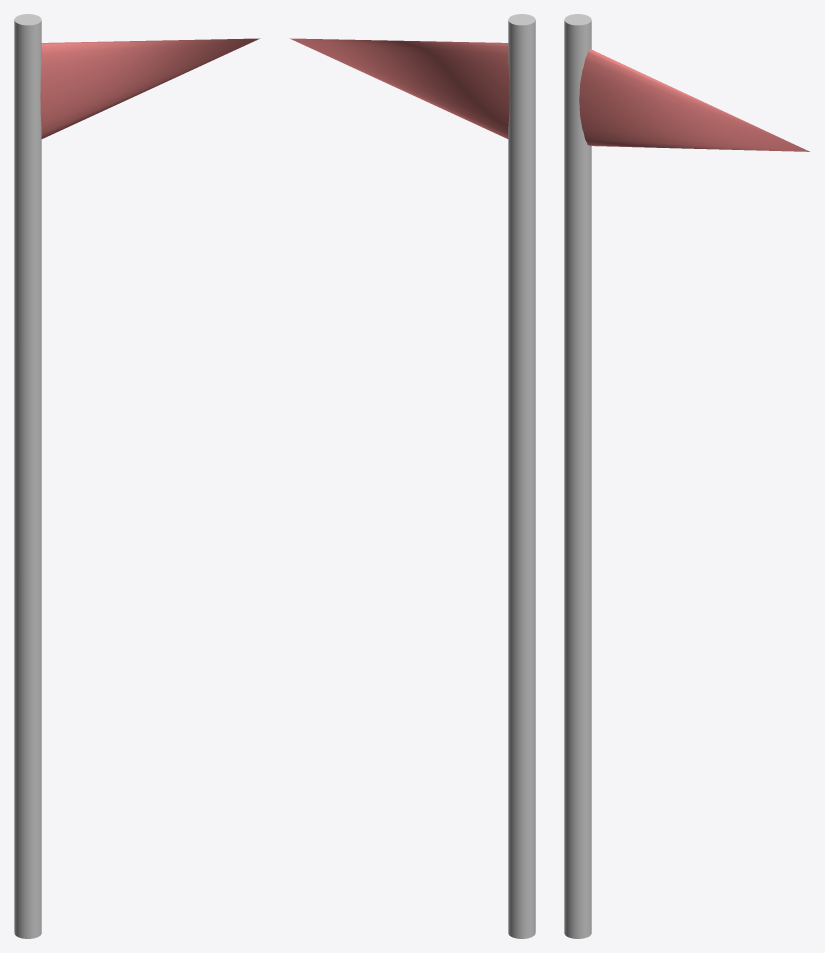
File: GoalPost.fbx
3 views of the same model, side by side, from view 1: azimuth 30°, elevation 25°; view 2: azimuth 150°, elevation 25°; view 3: azimuth 330°, elevation 25° (orthographic).
Parts seen in each view (by area): view 1: pCylinder1, pCone1; view 2: pCylinder1, pCone1; view 3: pCylinder1, pCone1.
Part boxes in pixels (x1,y1,x2,y2): pCylinder1: [14, 14, 41, 938]; pCone1: [40, 38, 260, 138]; pCylinder1: [508, 14, 535, 938]; pCone1: [289, 38, 509, 138]; pCylinder1: [564, 14, 591, 938]; pCone1: [579, 49, 809, 151].
Size of the model in its own units: 2.19 by 7.82 by 0.2122.
